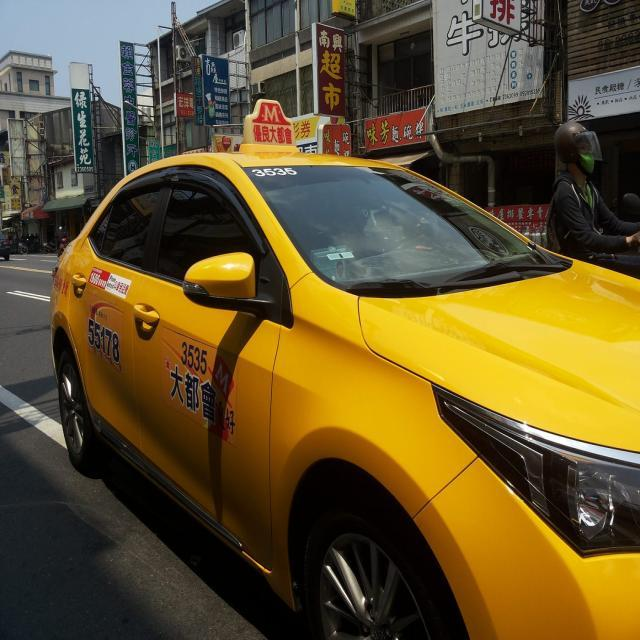taxi: (42, 73, 640, 640)
